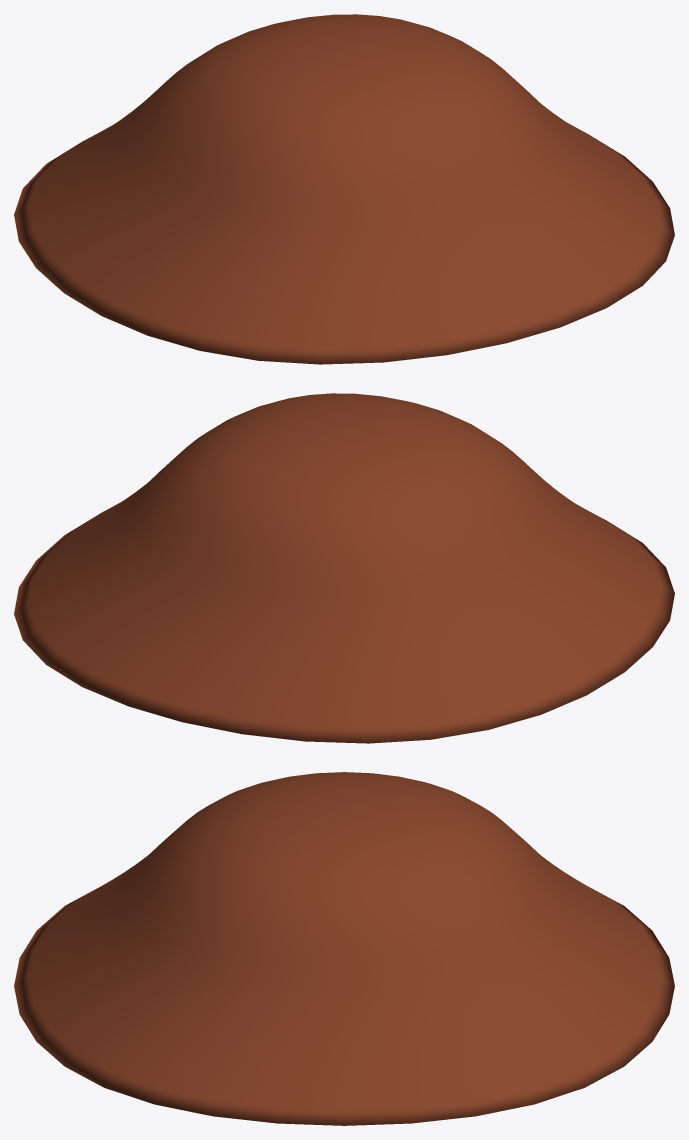
File: mole_01.fbx
3 renders of one model, top to bottom at view 1: azimuth 30°, elevation 25°; view 2: azimuth 150°, elevation 25°; view 3: azimuth 270°, elevation 25°, orthographic. The views are drawn at different scales.
Visible parts, largest first — view 1: Cube.027; view 2: Cube.027; view 3: Cube.027.
Boxes of the visible parts, x1,y1,x2,y2 form: Cube.027: (14,14,674,364); Cube.027: (14,393,674,743); Cube.027: (14,772,674,1125).
Size of the model in its own units: 73.29 by 22.08 by 73.29.
